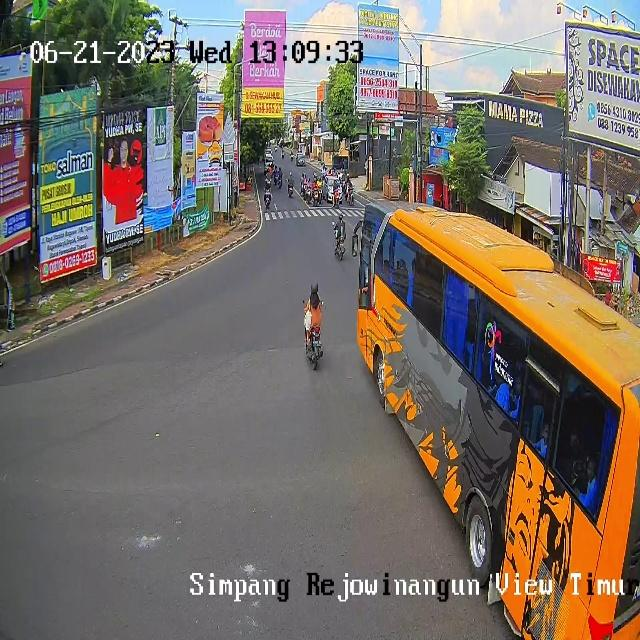bus: (304, 324, 324, 369), (336, 236, 345, 260), (332, 188, 340, 206), (264, 190, 272, 207), (348, 187, 354, 204), (306, 185, 312, 200), (288, 182, 294, 196), (313, 188, 319, 202), (278, 176, 282, 189)
car: (355, 201, 640, 640)
motorcycle: (322, 176, 342, 201), (264, 154, 275, 172), (296, 153, 306, 167)
